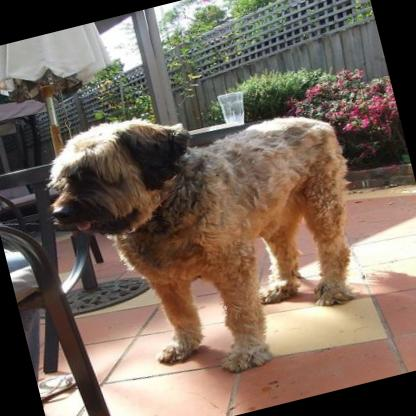briard: (25, 68, 387, 410)
